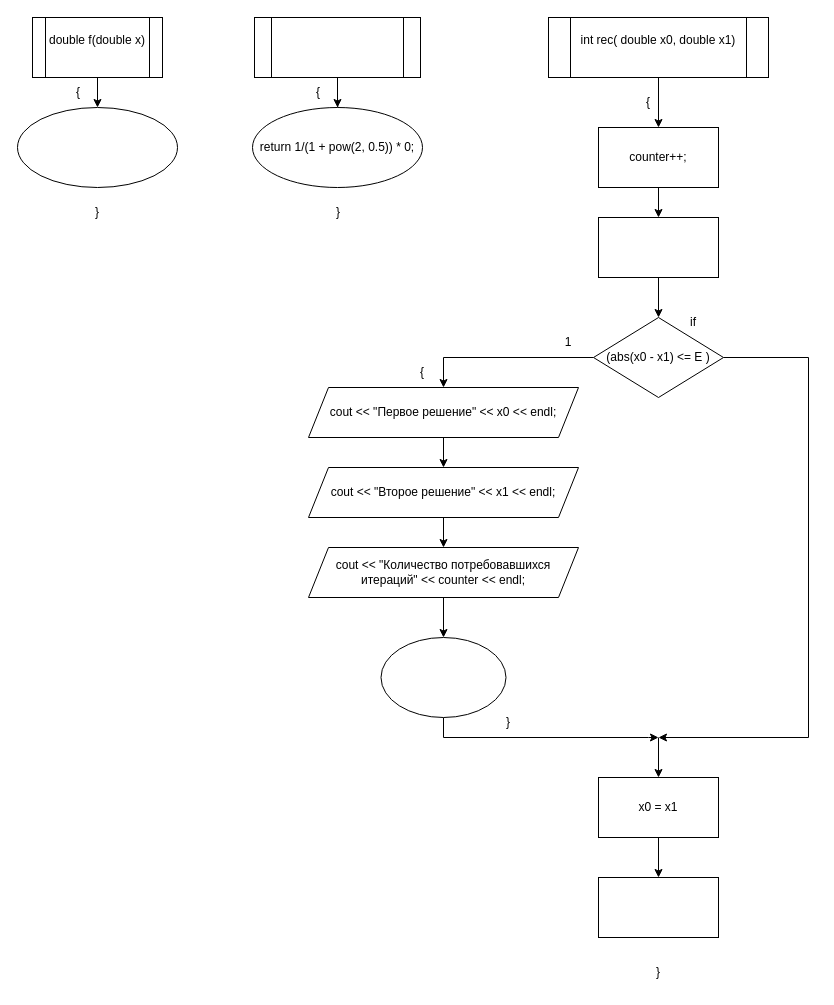
The diagram is 834 pixels wide and 1005 high, and some of its shapes have lost their labels. Each missing label, with the centre of its shape:
"double f_pr(double x)" goes at point 337,47.
"rec(x0, x1)" goes at point 658,907.
"return 0;" goes at point 443,677.
"return log(1 + pow(2, 0.5));" goes at point 97,147.
"x1 = f(x0)" goes at point 658,247.
